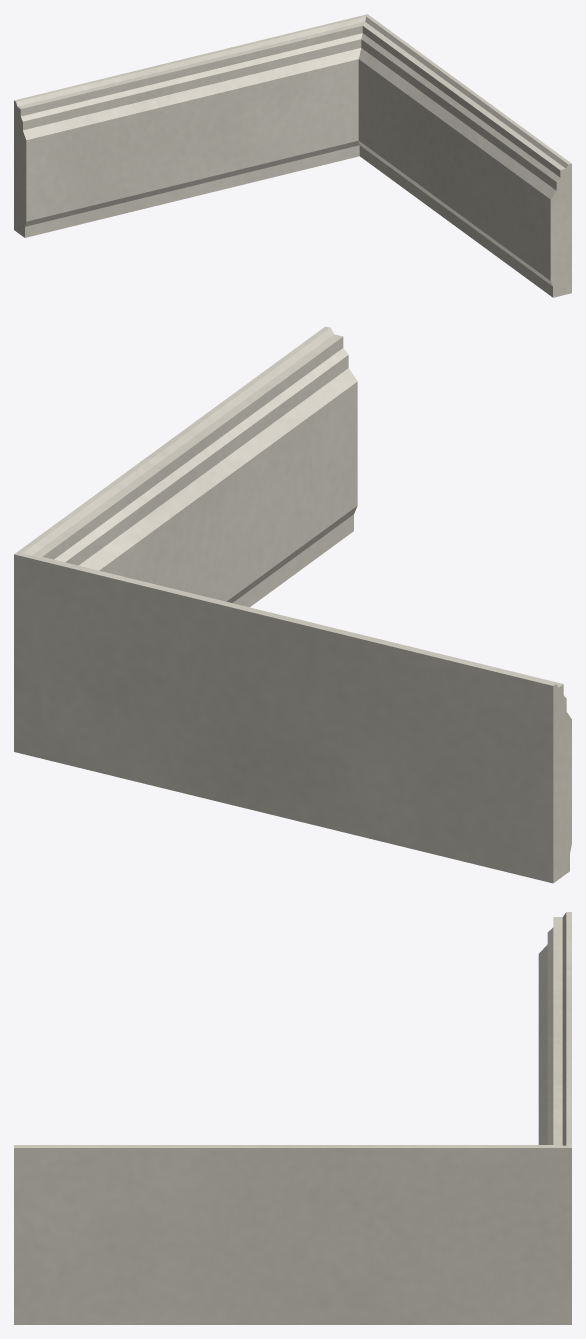
File: PZ_InteriorTrim_V05_Baseboard_OutsideCorner.glb
3 renders of one model, top to bottom at view 1: azimuth 30°, elevation 25°; view 2: azimuth 150°, elevation 25°; view 3: azimuth 270°, elevation 25°, orthographic. The views are drawn at different scales.
Parts seen in each view (by area): view 1: V05_Baseboard_OutsideCorner__Skirting_Miter90_ContinuousShel; view 2: V05_Baseboard_OutsideCorner__Skirting_Miter90_ContinuousShel; view 3: V05_Baseboard_OutsideCorner__Skirting_Miter90_ContinuousShel.
Boxes of the visible parts, x1,y1,x2,y2 form: V05_Baseboard_OutsideCorner__Skirting_Miter90_ContinuousShel: (14,14,571,297); V05_Baseboard_OutsideCorner__Skirting_Miter90_ContinuousShel: (14,326,571,883); V05_Baseboard_OutsideCorner__Skirting_Miter90_ContinuousShel: (14,912,571,1324).
Size of the model in its own units: 0.3 by 0.105 by 0.3.
Materials: 1 (1 with a texture image).
